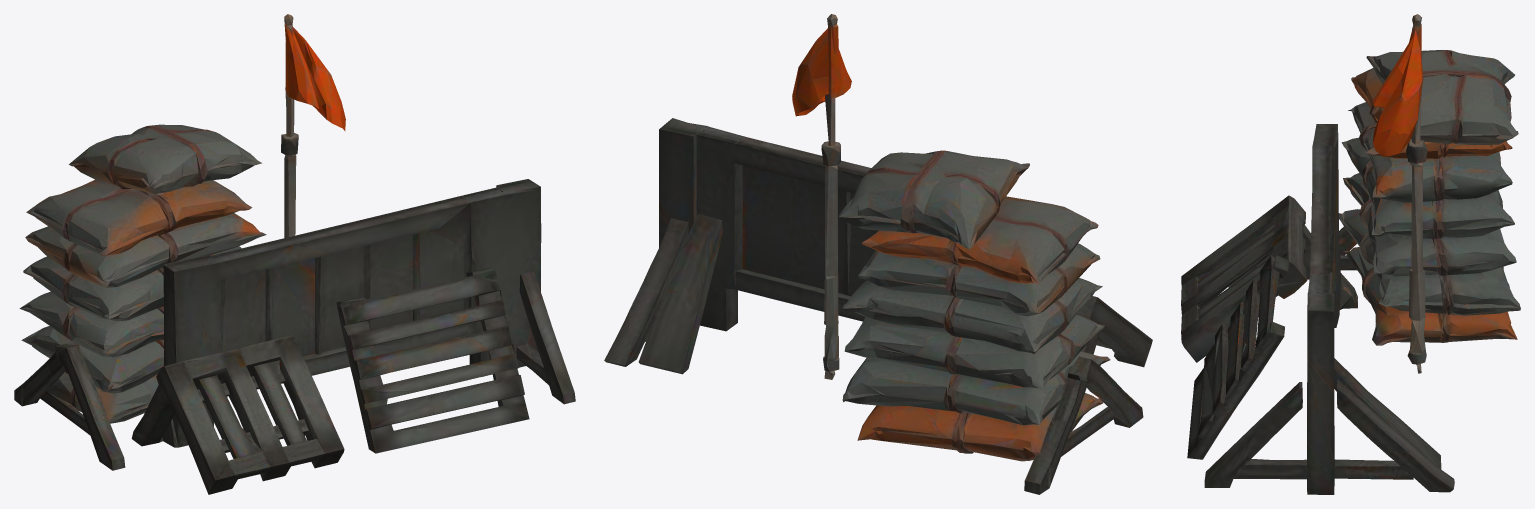
File: deco_barricade.glb
The picture shows the model from 3 angles, left to right: view 1: azimuth 30°, elevation 25°; view 2: azimuth 150°, elevation 25°; view 3: azimuth 270°, elevation 25°; orthographic projection. The views are drawn at different scales.
Size of the model in its own units: 1.9 by 1.5 by 1.22.
1 material, 1 textured.
